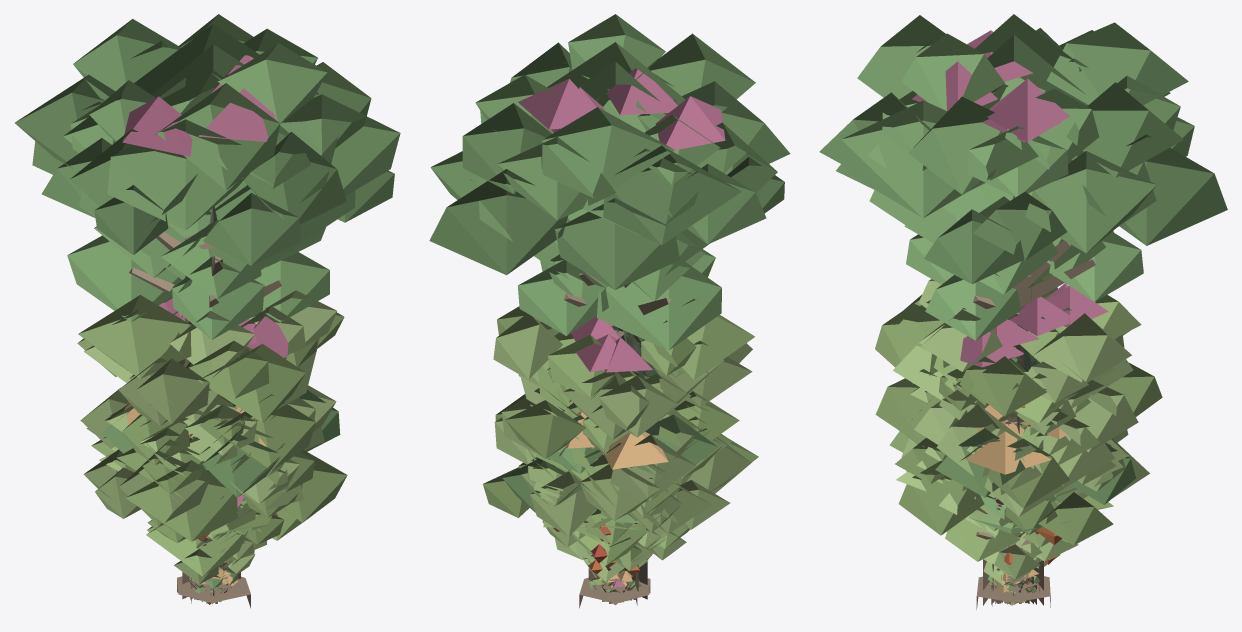
File: spring.glb
The picture shows the model from 3 angles, left to right: view 1: azimuth 30°, elevation 25°; view 2: azimuth 150°, elevation 25°; view 3: azimuth 270°, elevation 25°; orthographic projection. The views are drawn at different scales.
Parts seen in each view (by area): view 1: tree.trop.kapok__spring, tree.trop.dipterocarp__spring, tree.sub.camphor__spring, tree.temp.willow__spring, tree.temp.oak__spring, tree.sub.paulownia__spring, tree.trop.flame_tree__spring, tree.trop.mango__spring, tree.temp.plane_maple__spring, tree.sub.citrus__spring, tree.sub.tea_oil__spring, tree.trop.baobab__spring (+1 smaller); view 2: tree.trop.kapok__spring, tree.trop.dipterocarp__spring, tree.sub.camphor__spring, tree.trop.flame_tree__spring, tree.sub.paulownia__spring, tree.temp.willow__spring, tree.temp.oak__spring, tree.trop.mango__spring, tree.sub.citrus__spring, tree.sub.tea_oil__spring, tree.temp.plane_maple__spring, tree.trop.baobab__spring (+2 smaller); view 3: tree.trop.kapok__spring, tree.trop.dipterocarp__spring, tree.sub.camphor__spring, tree.temp.oak__spring, tree.trop.flame_tree__spring, tree.temp.willow__spring, tree.sub.paulownia__spring, tree.trop.mango__spring, tree.sub.citrus__spring, tree.temp.plane_maple__spring, tree.temp.ginkgo__spring, tree.temp.birch__spring (+3 smaller).
Boxes of the visible parts, <box> form: tree.trop.kapok__spring: <box>15,14,371,599</box>; tree.trop.dipterocarp__spring: <box>32,40,400,603</box>; tree.sub.camphor__spring: <box>77,290,344,599</box>; tree.temp.willow__spring: <box>91,437,347,599</box>; tree.temp.oak__spring: <box>80,385,336,599</box>; tree.sub.paulownia__spring: <box>112,298,317,576</box>; tree.trop.flame_tree__spring: <box>86,390,340,599</box>; tree.trop.mango__spring: <box>83,403,324,599</box>; tree.temp.plane_maple__spring: <box>106,419,302,591</box>; tree.sub.citrus__spring: <box>147,526,255,584</box>; tree.sub.tea_oil__spring: <box>147,495,284,553</box>; tree.trop.baobab__spring: <box>177,505,250,608</box>; tree.trop.kapok__spring: <box>462,14,777,599</box>; tree.trop.dipterocarp__spring: <box>429,61,790,605</box>; tree.sub.camphor__spring: <box>493,299,754,599</box>; tree.trop.flame_tree__spring: <box>494,406,751,600</box>; tree.sub.paulownia__spring: <box>518,316,752,579</box>; tree.temp.willow__spring: <box>483,438,758,571</box>; tree.temp.oak__spring: <box>495,368,739,599</box>; tree.trop.mango__spring: <box>521,409,732,600</box>; tree.sub.citrus__spring: <box>555,527,686,581</box>; tree.sub.tea_oil__spring: <box>542,509,667,563</box>; tree.temp.plane_maple__spring: <box>518,416,722,590</box>; tree.trop.baobab__spring: <box>579,510,650,608</box>; tree.trop.kapok__spring: <box>819,14,1188,605</box>; tree.trop.dipterocarp__spring: <box>836,35,1227,606</box>; tree.sub.camphor__spring: <box>875,273,1162,604</box>; tree.temp.oak__spring: <box>875,369,1138,604</box>; tree.trop.flame_tree__spring: <box>903,390,1135,603</box>; tree.temp.willow__spring: <box>889,426,1149,603</box>; tree.sub.paulownia__spring: <box>891,275,1124,579</box>; tree.trop.mango__spring: <box>895,396,1125,603</box>; tree.sub.citrus__spring: <box>983,532,1078,586</box>; tree.temp.plane_maple__spring: <box>906,424,1116,602</box>; tree.temp.ginkgo__spring: <box>939,358,1090,602</box>; tree.temp.birch__spring: <box>927,316,1075,410</box>.
Bounding box in the file's own units: 17.86 × 30.36 × 19.09.
